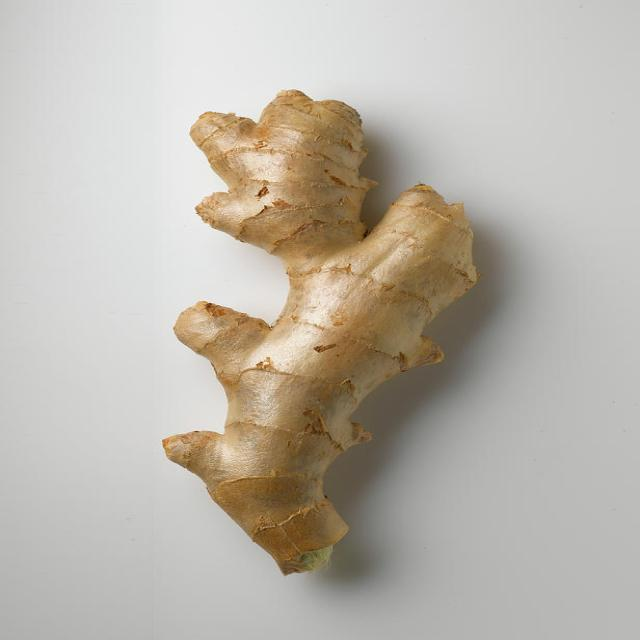ginger-root: (148, 78, 494, 578)
